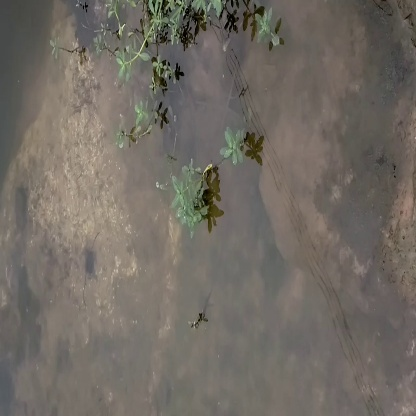leaf: (164, 160, 226, 239)
